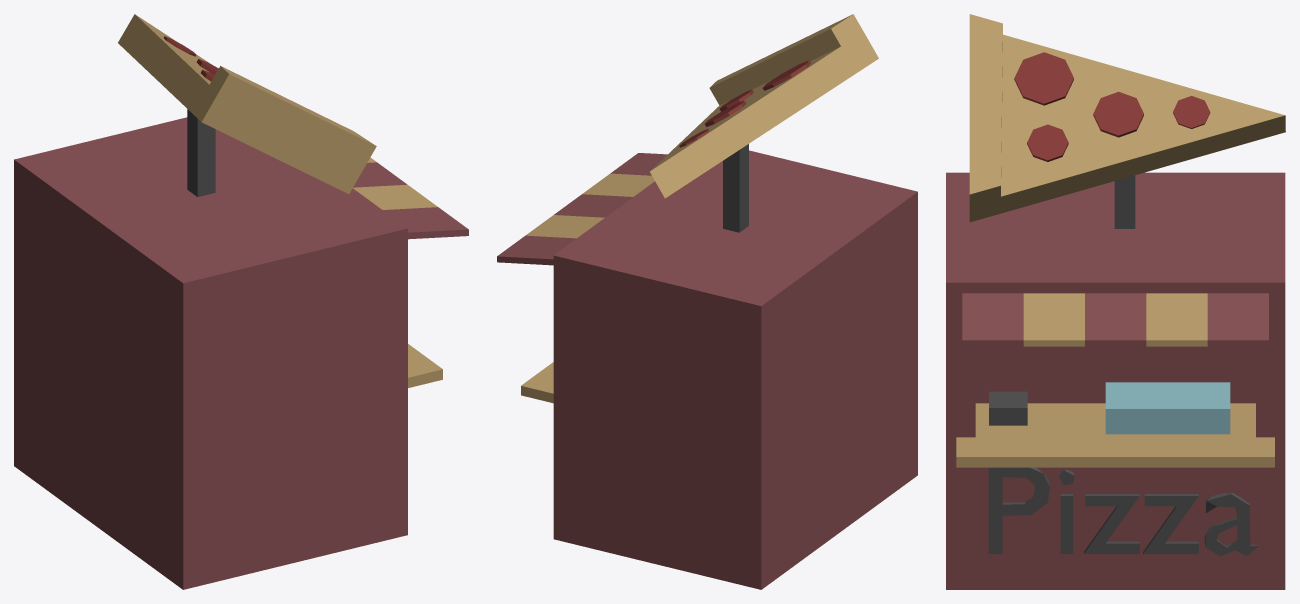
Rendered from PizzaShop.fbx.
The picture shows the model from 3 angles, left to right: view 1: azimuth 30°, elevation 25°; view 2: azimuth 150°, elevation 25°; view 3: azimuth 270°, elevation 25°; orthographic projection. The views are drawn at different scales.
Parts seen in each view (by area): view 1: Cube, Cube.004, Cube.003; view 2: Cube, Cube.004, Cube.003; view 3: Cube, Cube.004, Cube.003, Cube.001, Cube.002.
Part boxes in pixels (x1,y1,x2,y2): Cube: [14, 117, 442, 589]; Cube.004: [118, 14, 376, 196]; Cube.003: [353, 157, 468, 239]; Cube: [521, 150, 917, 589]; Cube.004: [650, 14, 878, 232]; Cube.003: [497, 153, 667, 265]; Cube: [946, 172, 1285, 589]; Cube.004: [969, 14, 1285, 228]; Cube.003: [962, 293, 1268, 346]; Cube.001: [1105, 382, 1230, 434]; Cube.002: [989, 391, 1027, 425].
Size of the model in its own units: 179 by 286 by 178.
